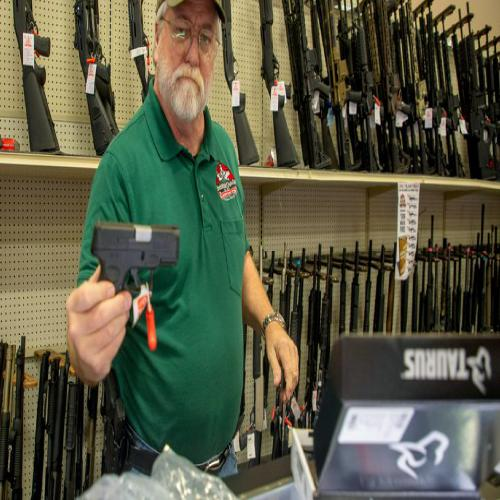gun: (90, 220, 183, 353)
